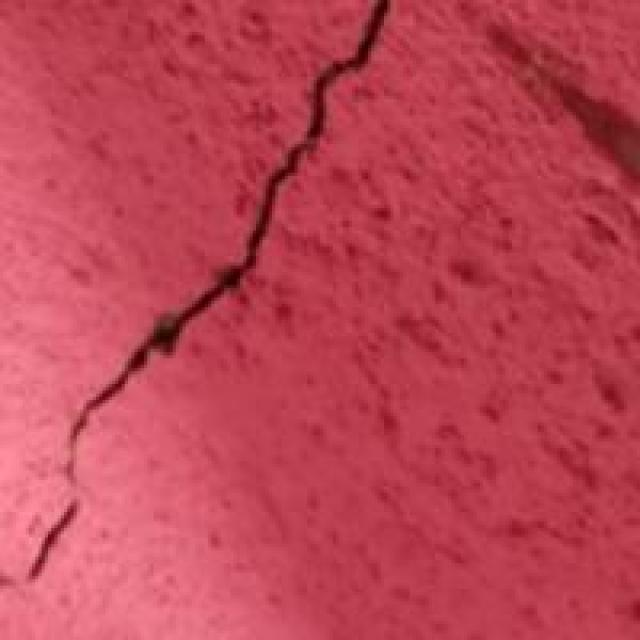crack: (6, 6, 445, 637)
